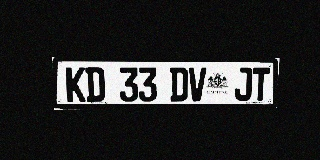3: (119, 67, 138, 102), (139, 67, 157, 102)
D: (85, 67, 105, 102), (170, 67, 188, 101)
J: (234, 67, 252, 101)
K: (66, 67, 86, 102)
T: (252, 67, 270, 101)
V: (188, 67, 206, 101)
